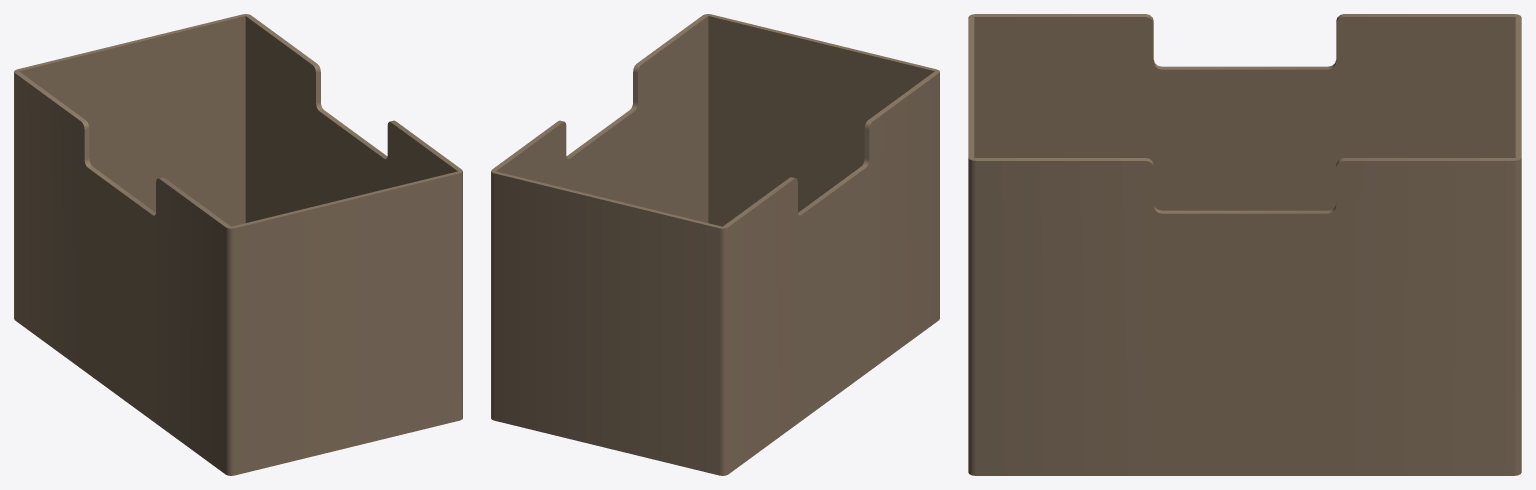
File: cardboard.fbx
3 renders of one model, left to right at view 1: azimuth 30°, elevation 25°; view 2: azimuth 150°, elevation 25°; view 3: azimuth 270°, elevation 25°, orthographic. The views are drawn at different scales.
Visible parts, largest first — view 1: Cube; view 2: Cube; view 3: Cube.
Boxes of the visible parts, box(x1,y1,x2,y2) form: Cube: box(14, 14, 462, 475); Cube: box(491, 14, 939, 475); Cube: box(968, 14, 1521, 475).
Bounding box in the file's own units: 200 × 200 × 318.
